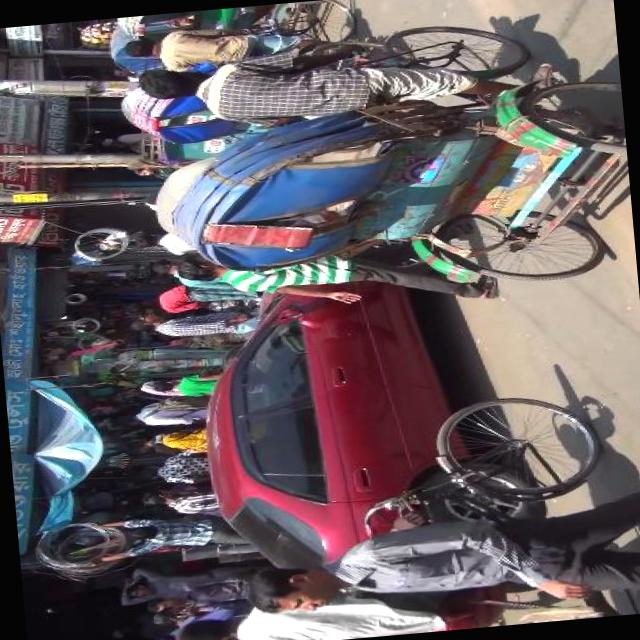car: (190, 236, 558, 598)
motorcycle: (128, 8, 630, 316), (117, 0, 324, 43)
